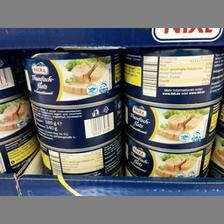Fisch: (122, 47, 223, 105), (120, 93, 224, 149), (20, 52, 122, 104), (25, 98, 121, 148), (122, 132, 214, 176)
